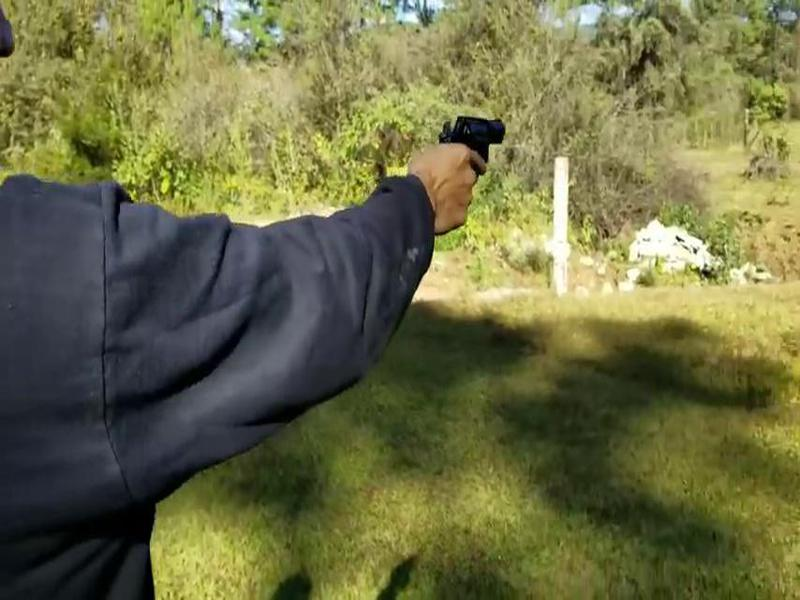Revolver: (428, 95, 524, 194)
